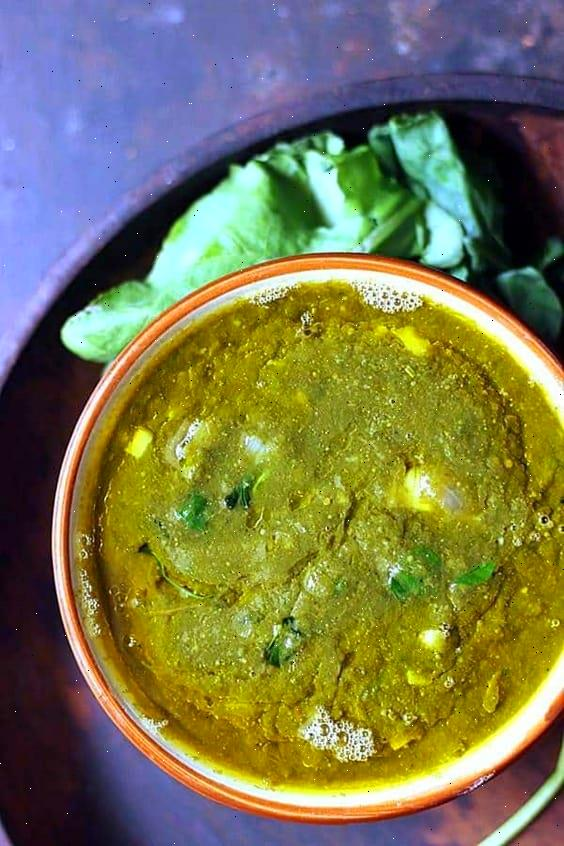saag: (103, 270, 564, 789)
